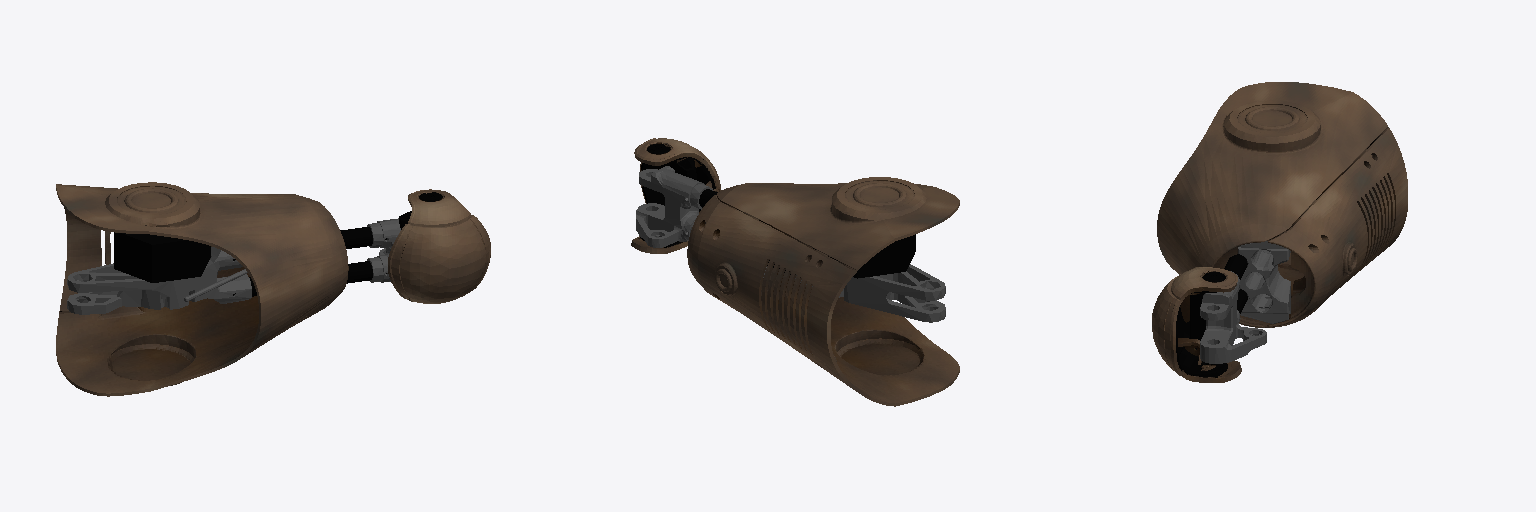
3 renders of one model, left to right at view 1: azimuth 30°, elevation 25°; view 2: azimuth 150°, elevation 25°; view 3: azimuth 270°, elevation 25°, orthographic.
Parts seen in each view (by area): view 1: tibia_r.004; view 2: tibia_r.004; view 3: tibia_r.004.
Part boxes in pixels (x1,y1,x2,y2): tibia_r.004: (56, 182, 490, 396); tibia_r.004: (631, 138, 959, 406); tibia_r.004: (1152, 82, 1407, 382).
Bounding box in the file's own units: 0.3214 × 0.1458 × 0.1966.
Materials: 4 (1 with a texture image).